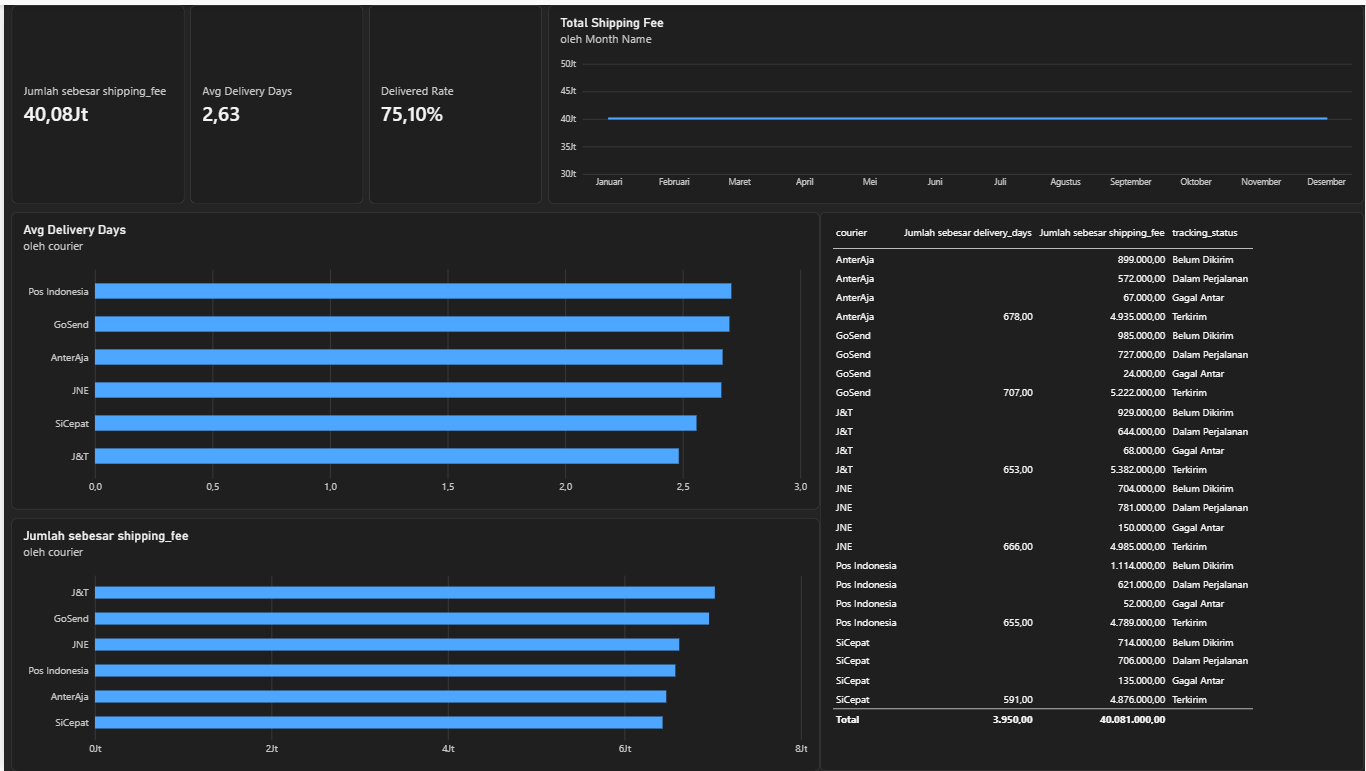

The dashboard page shown, as its layout file describes it:
{"tool":"powerbi","page":{"name":"Halaman 4","canvas":[1920,1080],"ordinal":3},"visuals":[{"type":"cardVisual","fields":{"Data":["Sum(fact_pengiriman.shipping_fee)","fact_penjualan.Avg Delivery Days","fact_penjualan.Delivered Rate"]},"box":[11.3,0,748.4,280.6],"z":0},{"type":"barChart","fields":{"Category":["fact_pengiriman.courier"],"Y":["fact_penjualan.Avg Delivery Days"]},"box":[11.3,292,1139.5,419.5],"z":1},{"type":"barChart","fields":{"Category":["fact_pengiriman.courier"],"Y":["Sum(fact_pengiriman.shipping_fee)"]},"box":[11.3,722.8,1139.5,357.2],"z":2},{"type":"lineChart","fields":{"Category":["dim_date.Month Name"],"Y":["fact_penjualan.Total Shipping Fee"]},"box":[768.2,0,1150.9,280.6],"z":3},{"type":"tableEx","fields":{"Values":["fact_pengiriman.courier","Sum(fact_pengiriman.delivery_days)","Sum(fact_pengiriman.shipping_fee)","fact_pengiriman.tracking_status"]},"box":[1150.9,292,768.2,788],"z":4}]}

Visuals, with their boxes in screenshot pixels (x1, y1, x2, y2), scaled from the page's 1920x1080 canvas onto the 1366x771 screenshot:
cardVisual - Sum(fact_pengiriman.shipping_fee) x fact_penjualan.Avg Delivery Days: detection(8, 0, 540, 200)
barChart - fact_pengiriman.courier x fact_penjualan.Avg Delivery Days: detection(8, 208, 819, 508)
barChart - fact_pengiriman.courier x Sum(fact_pengiriman.shipping_fee): detection(8, 516, 819, 770)
lineChart - dim_date.Month Name x fact_penjualan.Total Shipping Fee: detection(547, 0, 1365, 200)
tableEx - fact_pengiriman.courier x Sum(fact_pengiriman.delivery_days): detection(819, 208, 1365, 770)
